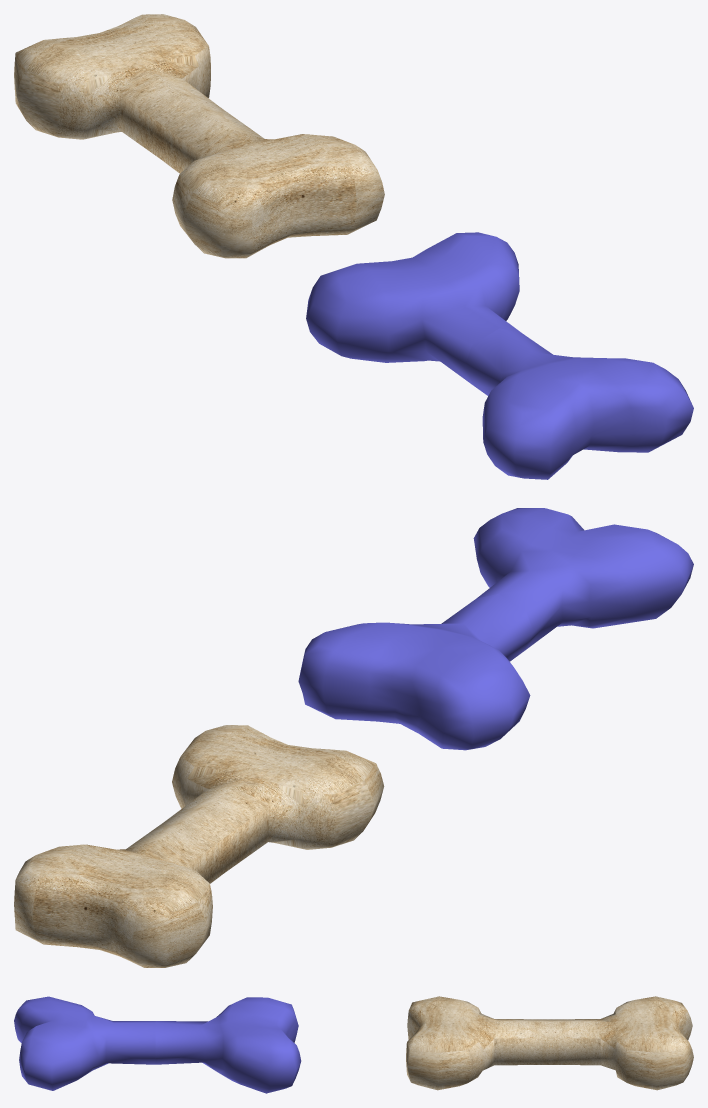
Rendered from bone.fbx.
3 views of the same model, one above another, from view 1: azimuth 30°, elevation 25°; view 2: azimuth 150°, elevation 25°; view 3: azimuth 270°, elevation 25° (orthographic). The views are drawn at different scales.
Visible parts, largest first — view 1: pCube2, pCube1; view 2: pCube2, pCube1; view 3: pCube1, pCube2.
Part boxes in pixels (x1=…): pCube2: x1=306, y1=232, x2=693, y2=479; pCube1: x1=14, y1=14, x2=384, y2=258; pCube2: x1=298, y1=508, x2=693, y2=750; pCube1: x1=14, y1=725, x2=384, y2=967; pCube1: x1=406, y1=996, x2=693, y2=1090; pCube2: x1=14, y1=996, x2=301, y2=1093.
Bounding box in the file's own units: 0.00186 × 0.000752 × 0.008.
